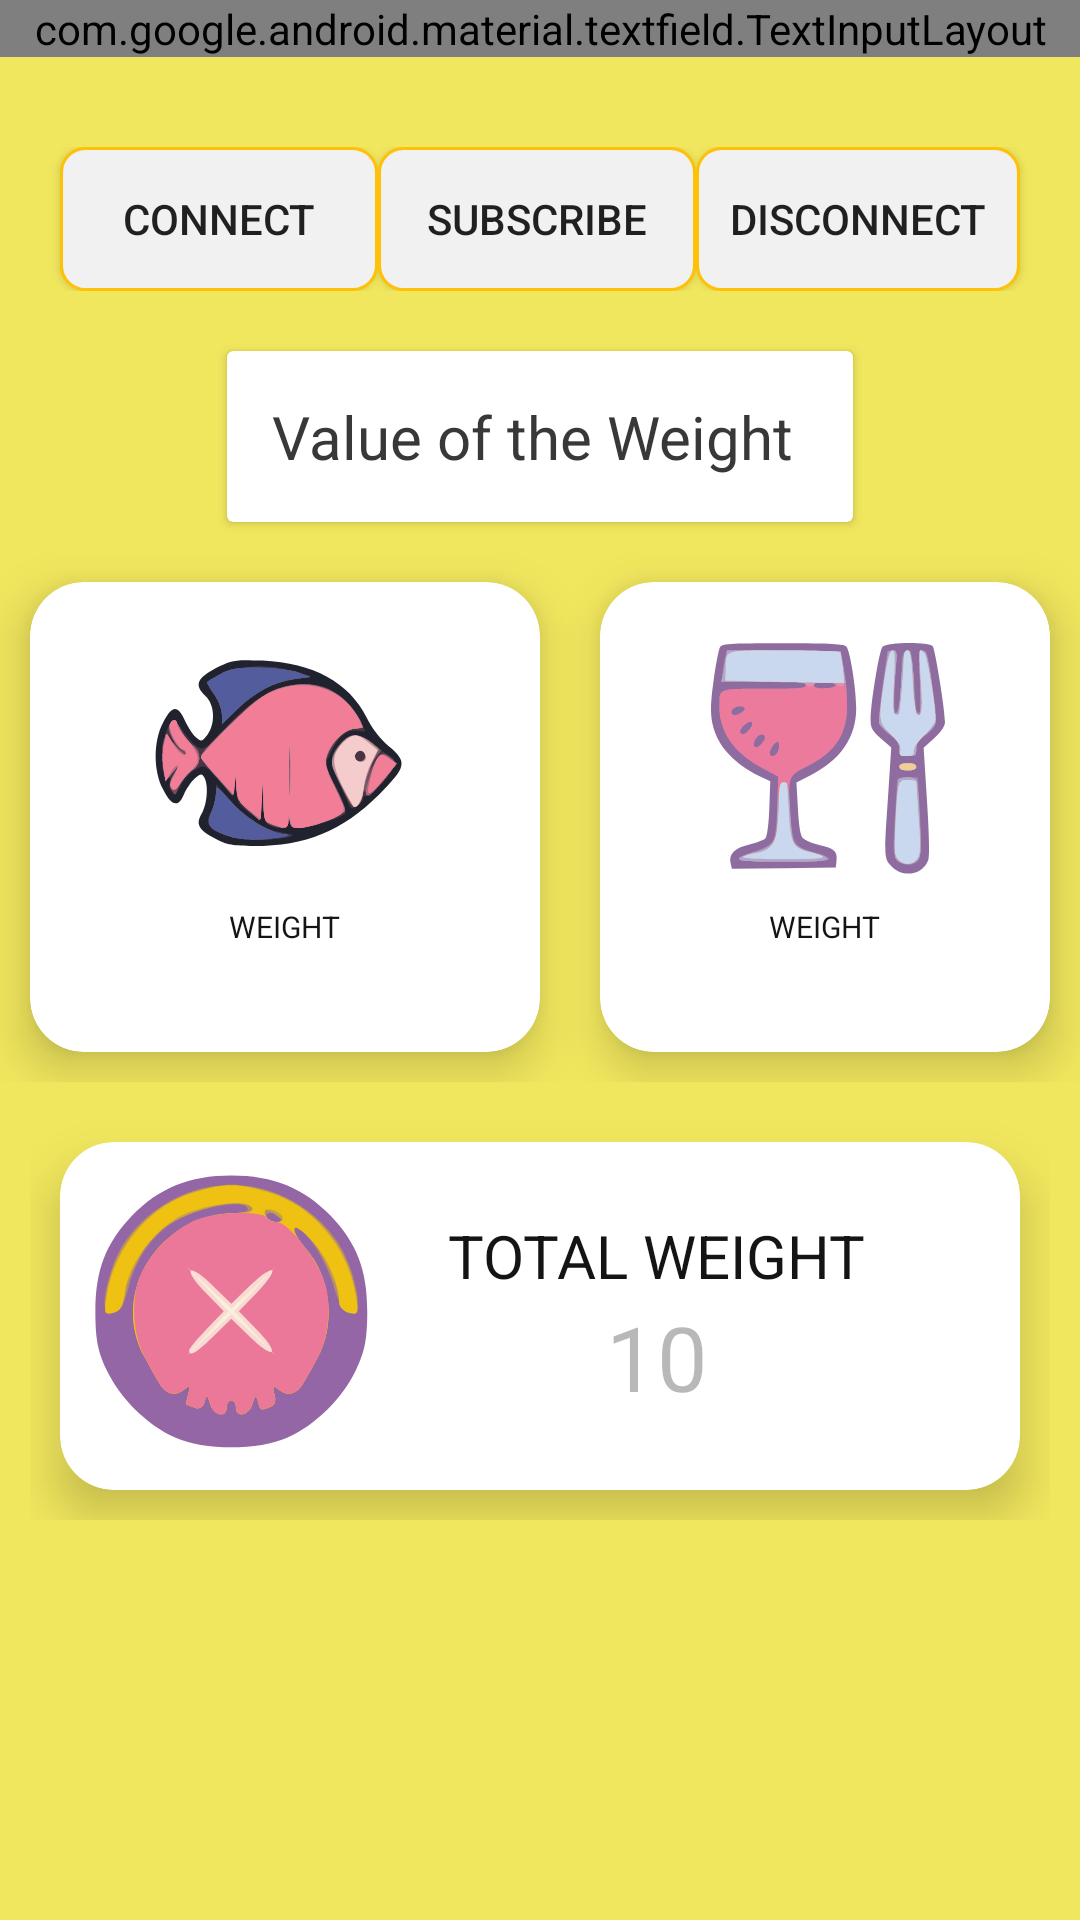

Icons on this 1080px x 1920px Android screen, each with its box as [x1=x1, y1=y1, x2=x2, y2=y2]:
fish: [x1=155, y1=660, x2=402, y2=846]
food: [x1=711, y1=643, x2=945, y2=874]
